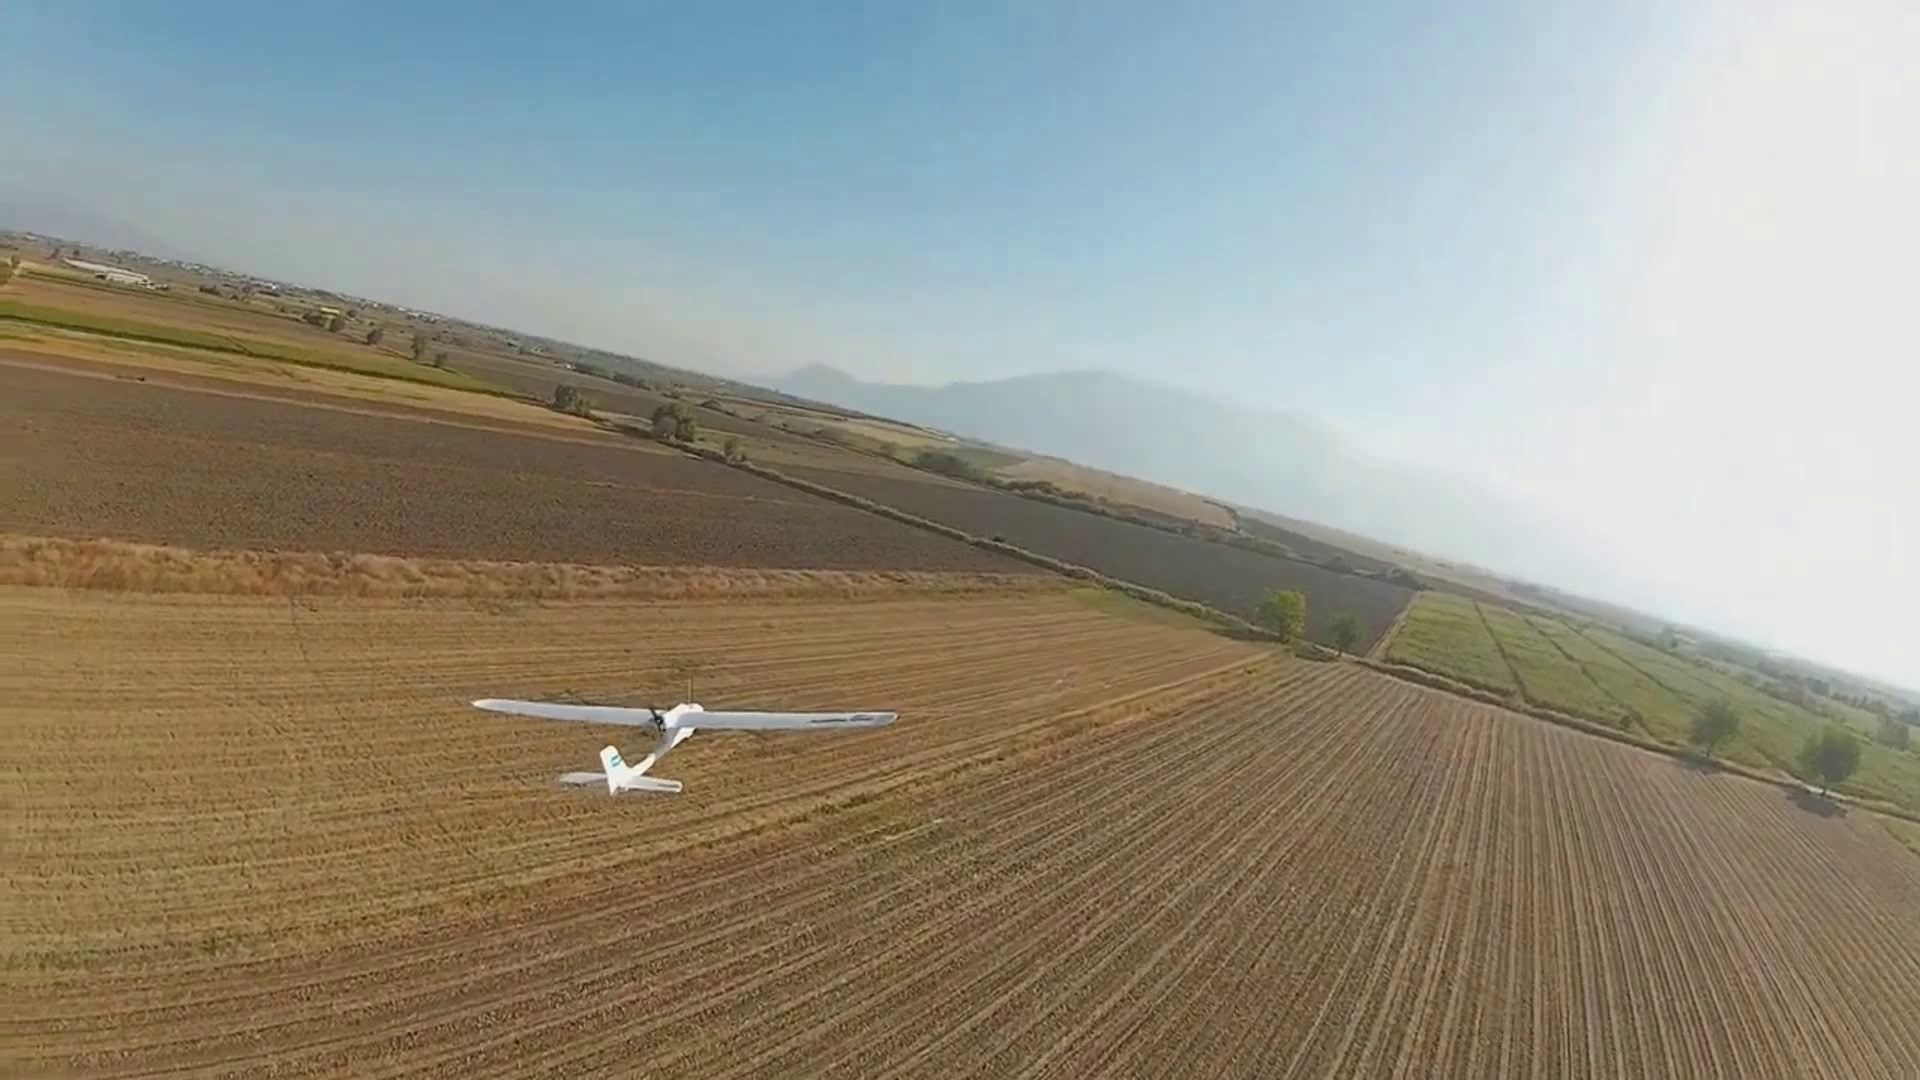airplane: (472, 698, 899, 800)
